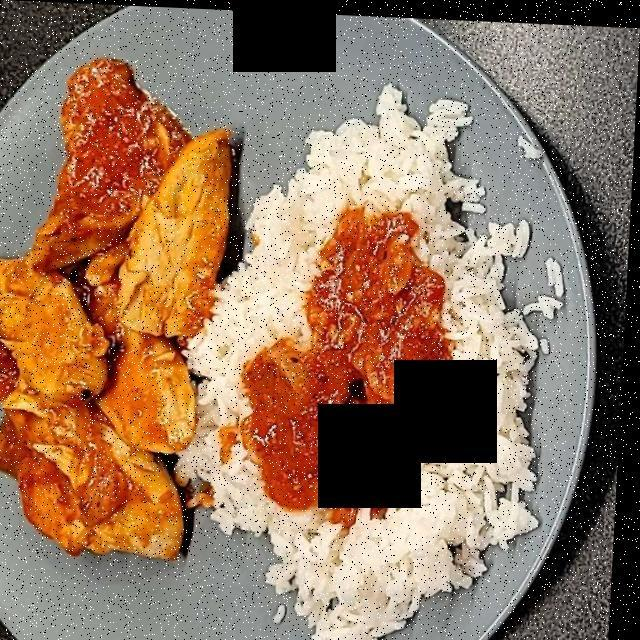chicken: (0, 68, 229, 552)
rice: (199, 98, 538, 640)
tomato-sauce: (245, 208, 451, 516)
